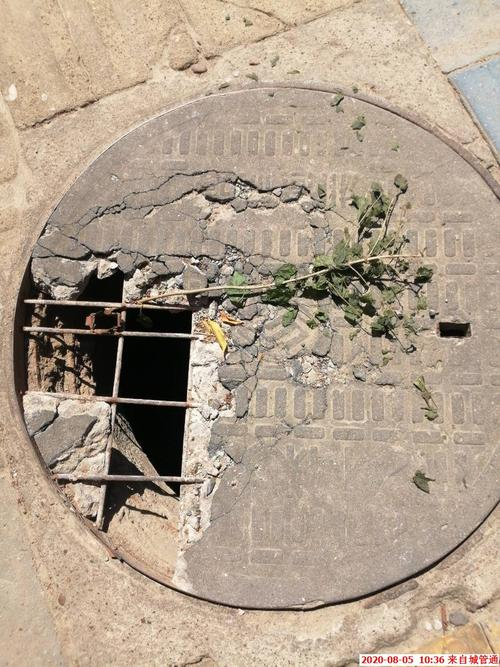broke: (12, 80, 489, 606)
